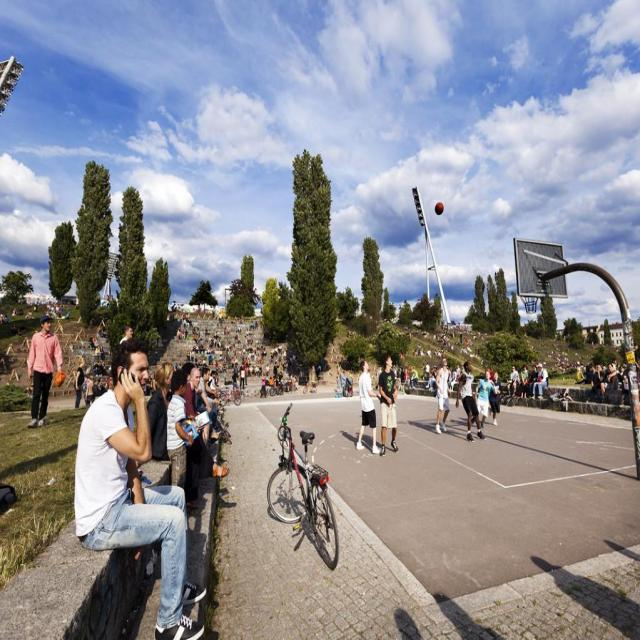rim: (436, 199, 444, 217)
